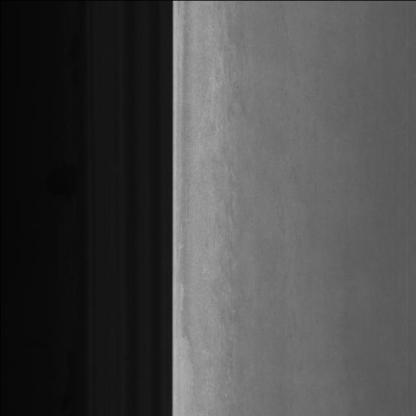silk_spot: (199, 122, 253, 368)
